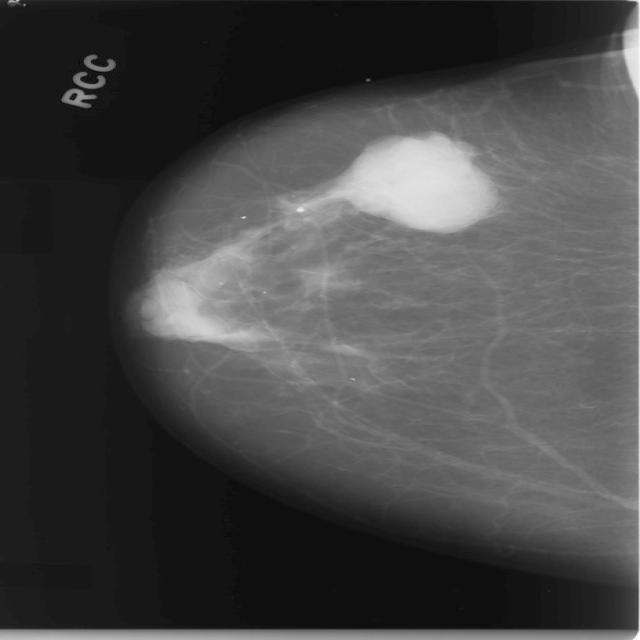tumour: (341, 136, 495, 230)
